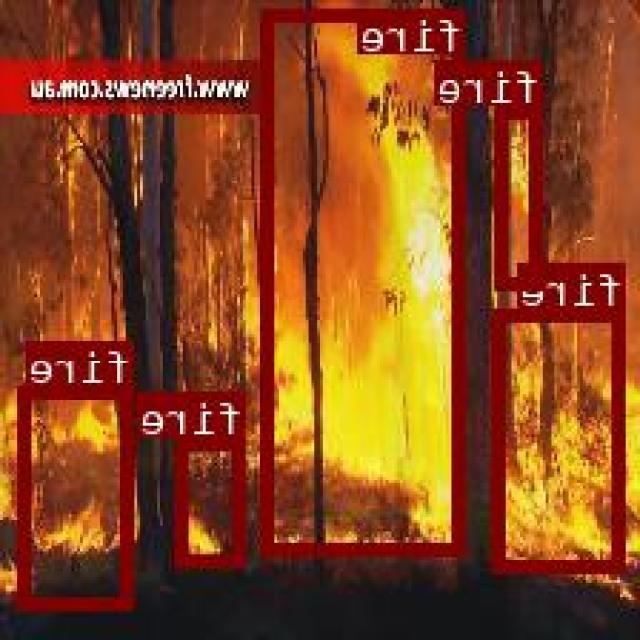fire: (264, 8, 467, 553), (494, 308, 628, 570), (22, 384, 136, 608), (498, 105, 546, 288), (179, 437, 248, 563)
